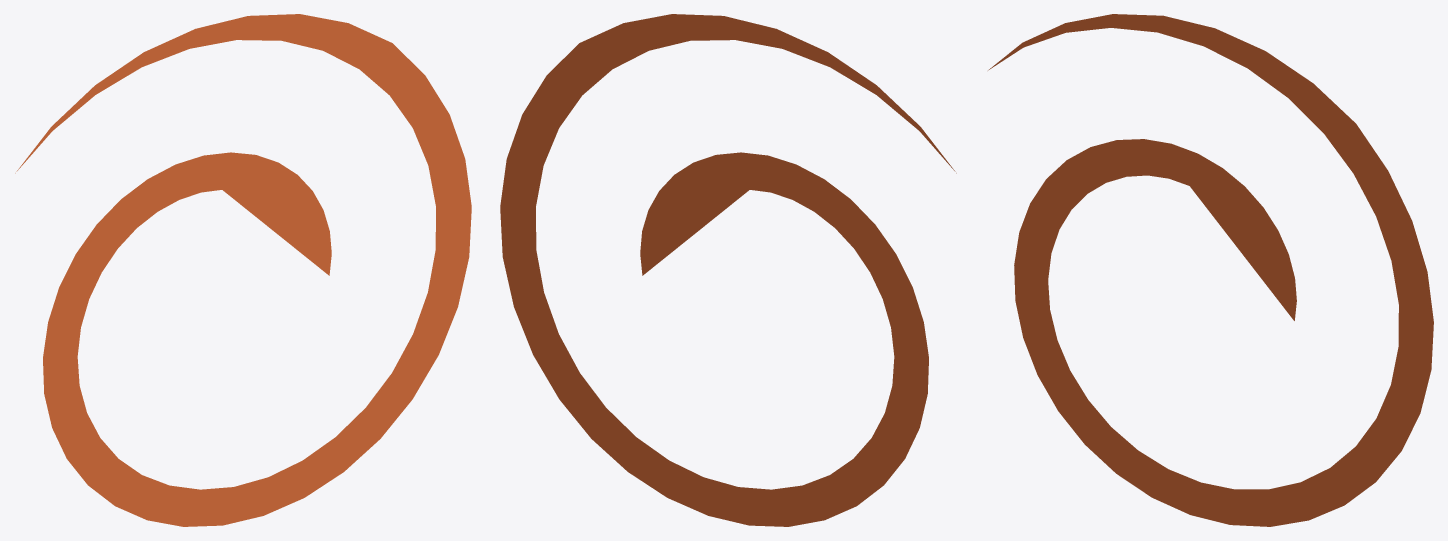
Rendered from ant_arm1.obj.
3 renders of one model, left to right at view 1: azimuth 30°, elevation 25°; view 2: azimuth 150°, elevation 25°; view 3: azimuth 330°, elevation 25°, orthographic. The views are drawn at different scales.
Size of the model in its own units: 20.33 by 21.38 by 0.
